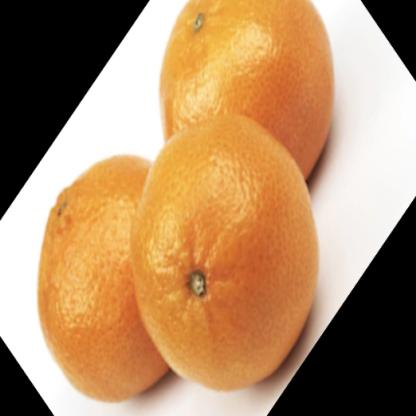fresh: (37, 1, 339, 404)
